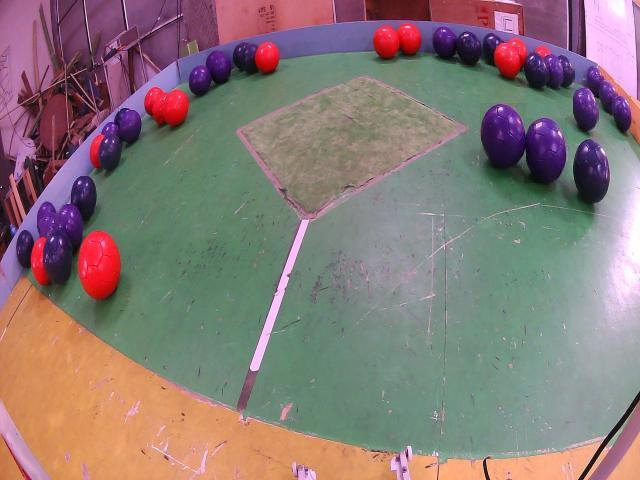jambhalya: (480, 104, 526, 168), (525, 119, 567, 183), (57, 205, 82, 251), (574, 88, 598, 132), (206, 50, 231, 83), (119, 110, 141, 143), (433, 27, 456, 58), (189, 65, 211, 95), (613, 96, 631, 131), (600, 80, 617, 113), (37, 202, 57, 228), (587, 66, 603, 96)
kaalyya: (573, 139, 610, 203), (44, 230, 73, 283), (70, 176, 96, 219), (456, 31, 481, 66), (232, 42, 258, 73), (99, 134, 121, 170), (525, 54, 548, 88), (16, 230, 34, 268), (484, 34, 503, 65), (559, 55, 574, 88), (115, 108, 128, 125)
